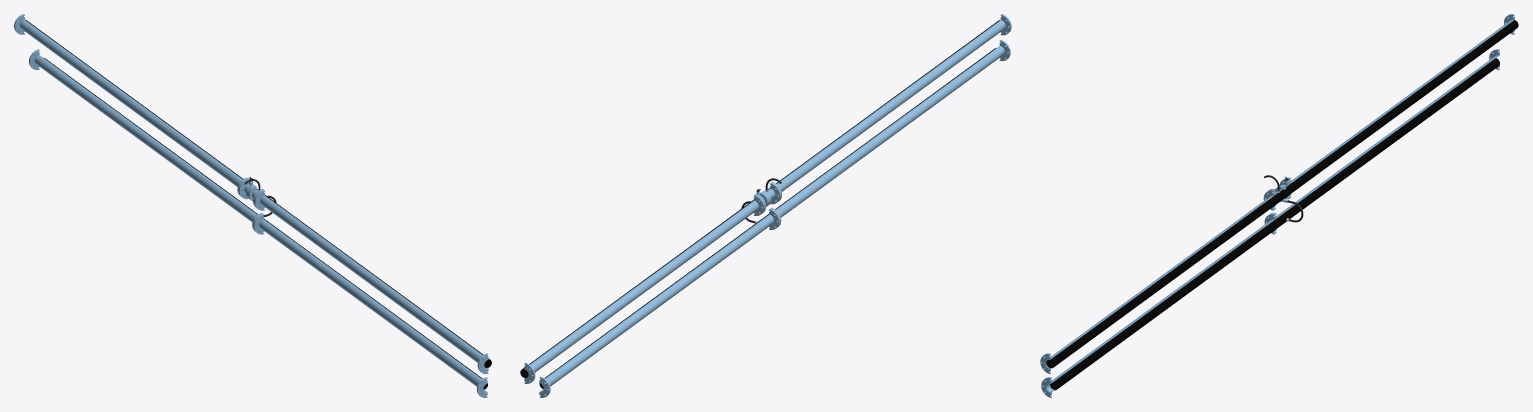
File: 管道+加速器(导出)(透明）.fbx
3 renders of one model, left to right at view 1: azimuth 30°, elevation 25°; view 2: azimuth 150°, elevation 25°; view 3: azimuth 330°, elevation 25°, orthographic. The views are drawn at different scales.
Visible parts, largest first — view 1: 蓝色管道, 白色管道, 透明管道_2; view 2: 蓝色管道, 白色管道, 透明管道_2; view 3: 透明管道_2, 透明管道, 透明管道_1, 白色管道, 蓝色管道.
Part boxes in pixels (x1=…): 蓝色管道: x1=14, y1=14, x2=488, y2=374; 白色管道: x1=29, y1=49, x2=487, y2=397; 透明管道_2: x1=43, y1=57, x2=487, y2=389; 蓝色管道: x1=524, y1=14, x2=1011, y2=383; 白色管道: x1=539, y1=40, x2=1010, y2=397; 透明管道_2: x1=539, y1=48, x2=995, y2=388; 透明管道_2: x1=1050, y1=58, x2=1499, y2=390; 透明管道: x1=1046, y1=190, x2=1286, y2=368; 透明管道_1: x1=1282, y1=20, x2=1518, y2=197; 白色管道: x1=1041, y1=49, x2=1499, y2=397; 蓝色管道: x1=1040, y1=14, x2=1514, y2=373.
Size of the model in its own units: 41.08 by 59.15 by 931.
